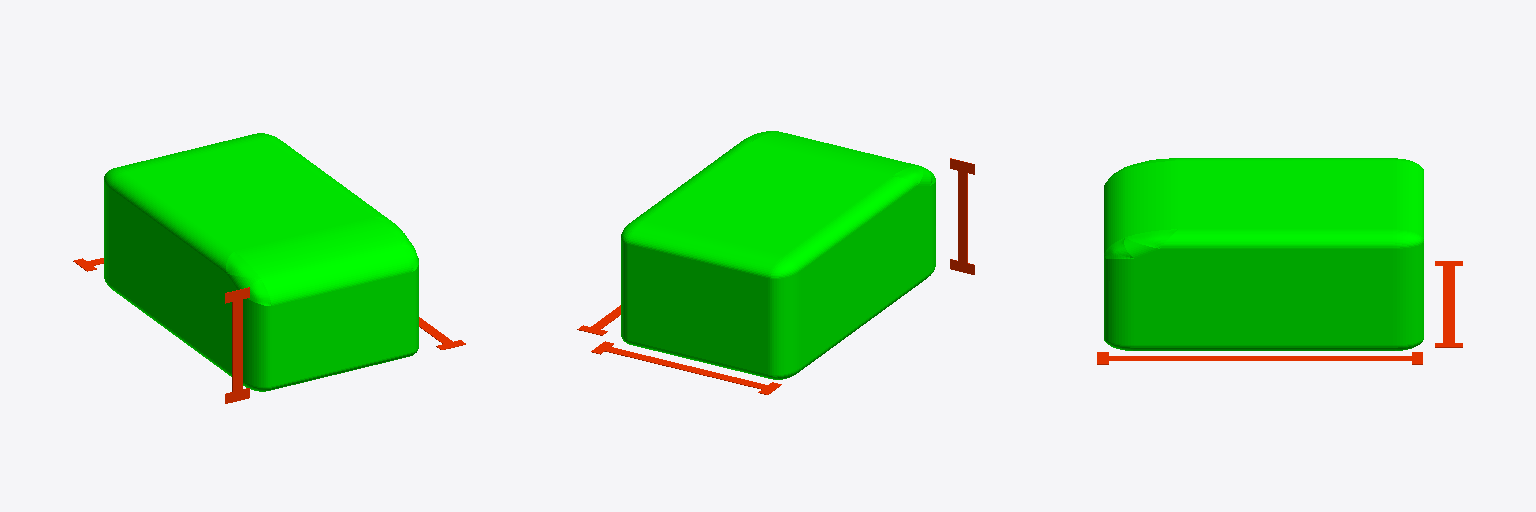
The model's file is duffel_green.obj.
3 renders of one model, left to right at view 1: azimuth 30°, elevation 25°; view 2: azimuth 150°, elevation 25°; view 3: azimuth 270°, elevation 25°, orthographic.
Visible parts, largest first — view 1: Cube, ruler_x_Plane.005; view 2: Cube, ruler_x_Plane.005, ruler_y_Plane.007; view 3: Cube, ruler_z_Plane.002, ruler_y_Plane.007.
Part boxes in pixels (x1,y1,x2,y2): Cube: (104,133,418,391); ruler_x_Plane.005: (225,287,249,403); Cube: (621,131,935,379); ruler_x_Plane.005: (950,158,974,274); ruler_y_Plane.007: (591,341,781,394); Cube: (1104,158,1423,350); ruler_z_Plane.002: (1097,352,1422,364); ruler_y_Plane.007: (1435,261,1462,347).
Bounding box in the file's own units: 0.48 × 0.23 × 0.64.